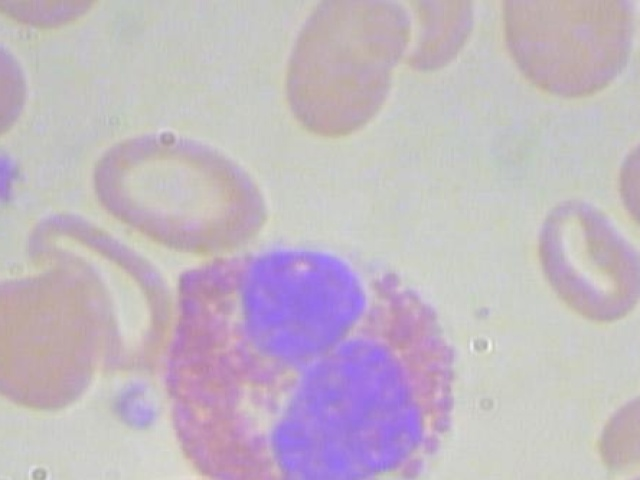Platelets: (107, 380, 165, 429), (0, 147, 34, 210)
RBC: (81, 123, 276, 255), (267, 0, 423, 142), (0, 258, 100, 421), (497, 0, 640, 109), (523, 197, 640, 330), (598, 110, 640, 243), (0, 8, 31, 174), (0, 0, 110, 40)
WBC: (157, 224, 488, 480)
